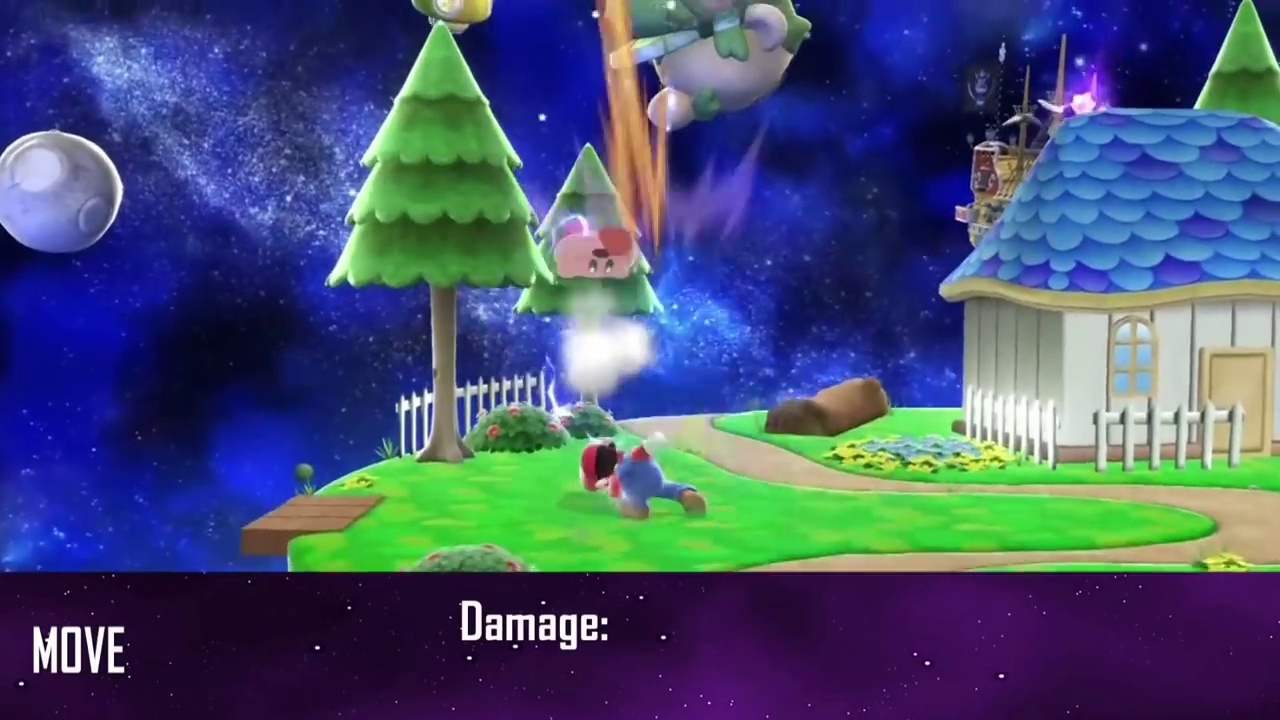Mario: (580, 436, 707, 517)
